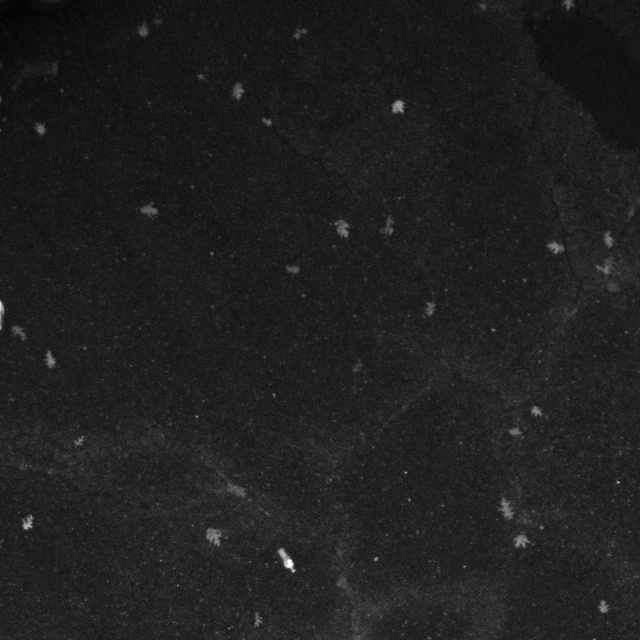bottle: (271, 545, 304, 577)
